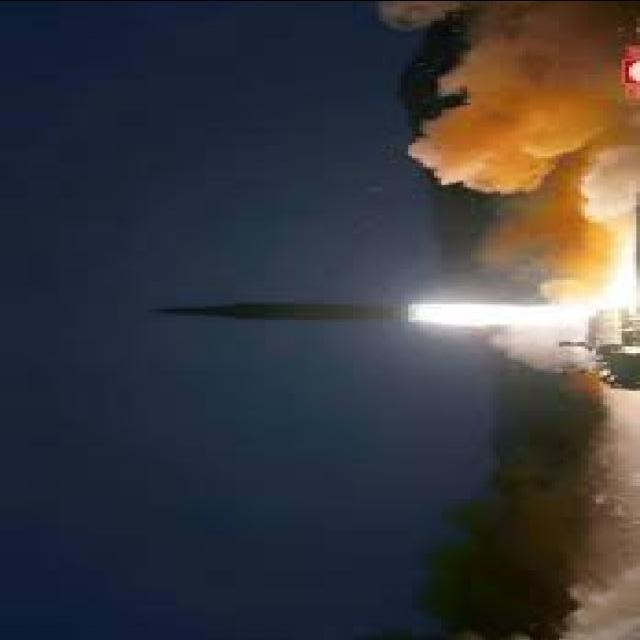Missile: (140, 297, 438, 324)
